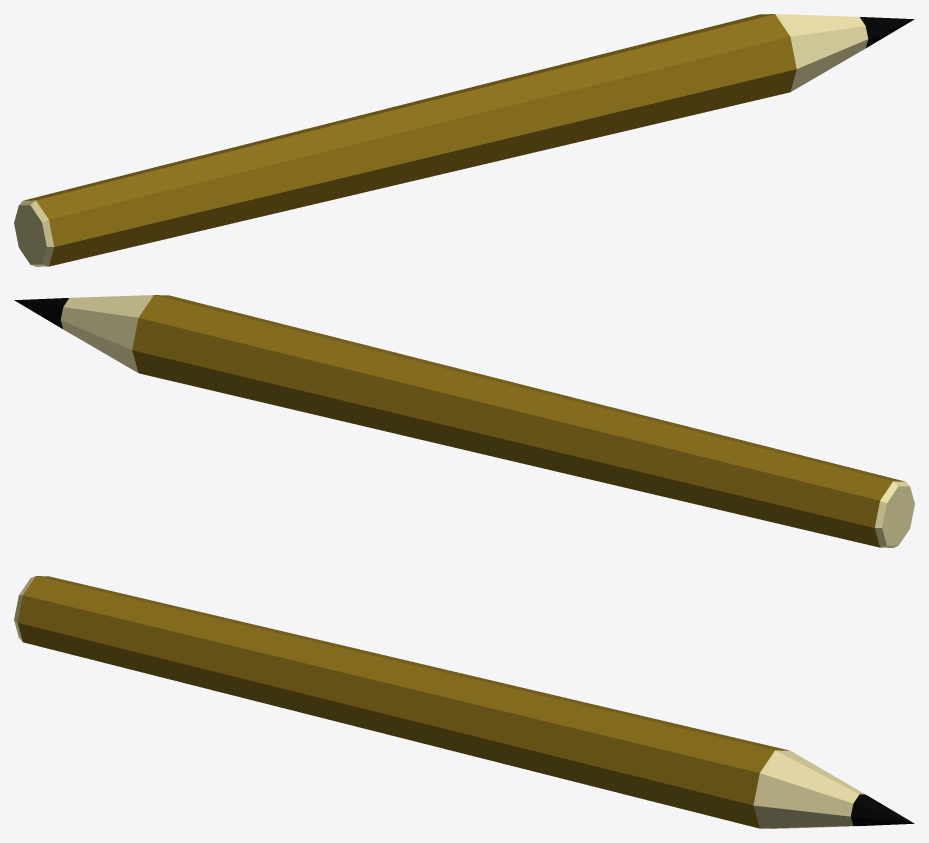
File: pencil.fbx
3 views of the same model, one above another, from view 1: azimuth 30°, elevation 25°; view 2: azimuth 150°, elevation 25°; view 3: azimuth 330°, elevation 25° (orthographic).
Parts seen in each view (by area): view 1: pencil.002; view 2: pencil.002; view 3: pencil.002.
Boxes of the visible parts, bbox=[...] form: pencil.002: bbox=[14, 14, 914, 266]; pencil.002: bbox=[14, 295, 914, 547]; pencil.002: bbox=[14, 576, 914, 828].
Bounding box in the file's own units: 33.59 × 2.85 × 2.85.
